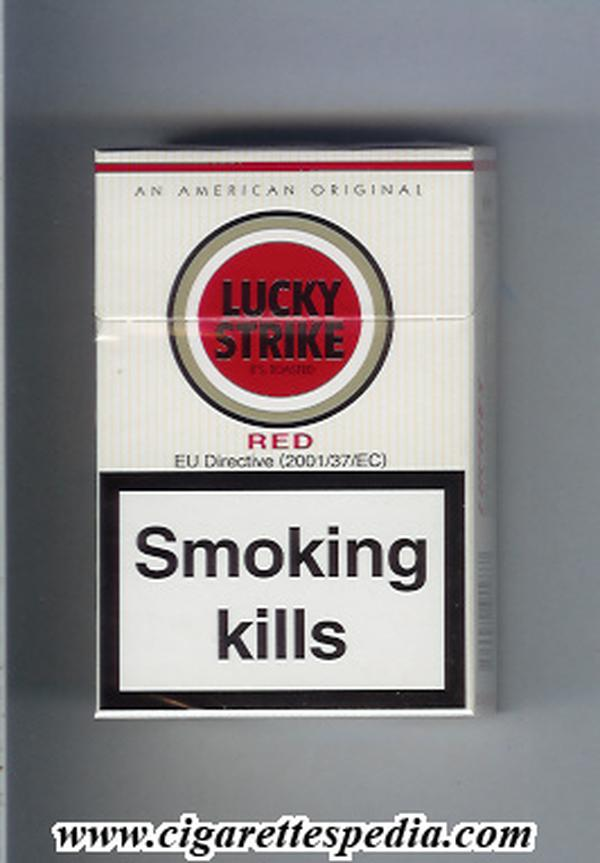lucky_strike_red: (98, 150, 474, 719)
